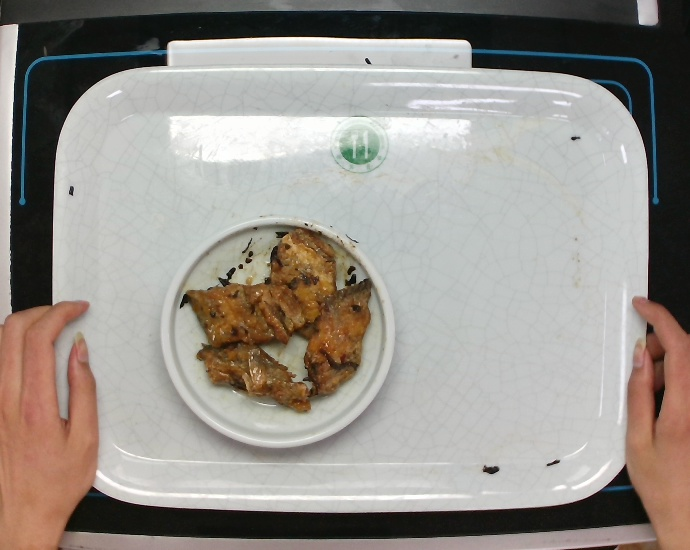JYsf-Xiao_Yuan_Pan: (150, 209, 398, 449)
